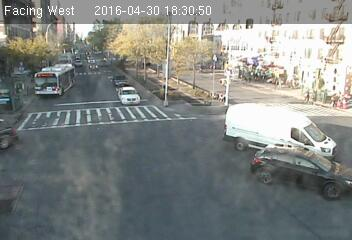neg: (7, 74, 27, 101), (207, 50, 222, 70), (217, 90, 227, 104), (218, 76, 227, 88)
pos: (302, 88, 314, 103)
